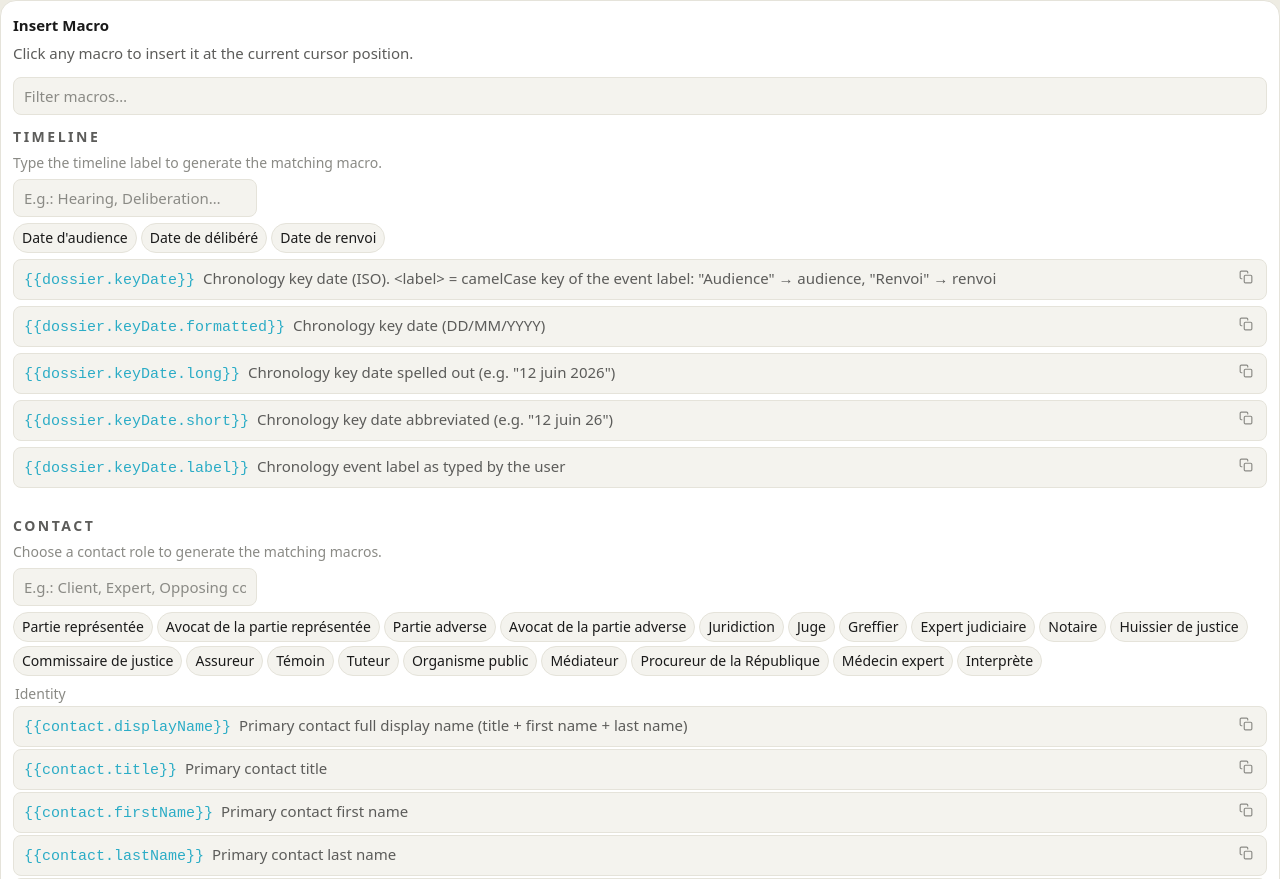
it: TagReferencePanel › shows all key date format variants for a dynamic label
Type "Hearing Date" into the field with placeholder "E.g.: Hearing, Deliberation…". click: (135,198)
box: [13,179,257,217]
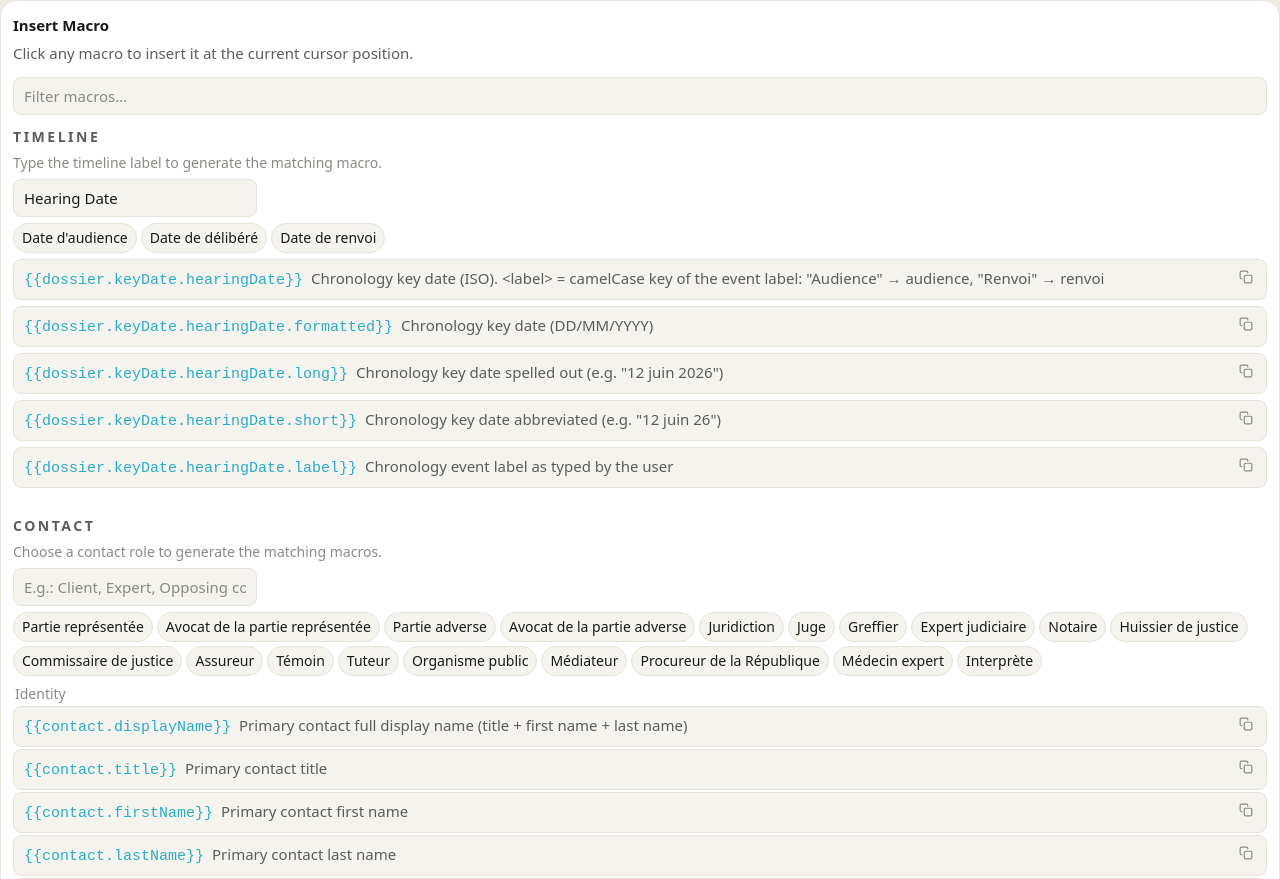
Result: the text "{{dossier.keyDate.hearingDate}}" is shown at [24,269,303,293]
Result: the text "{{dossier.keyDate.hearingDate.formatted}}" is shown at [24,316,393,340]
Result: the text "{{dossier.keyDate.hearingDate.long}}" is shown at [24,363,348,387]
